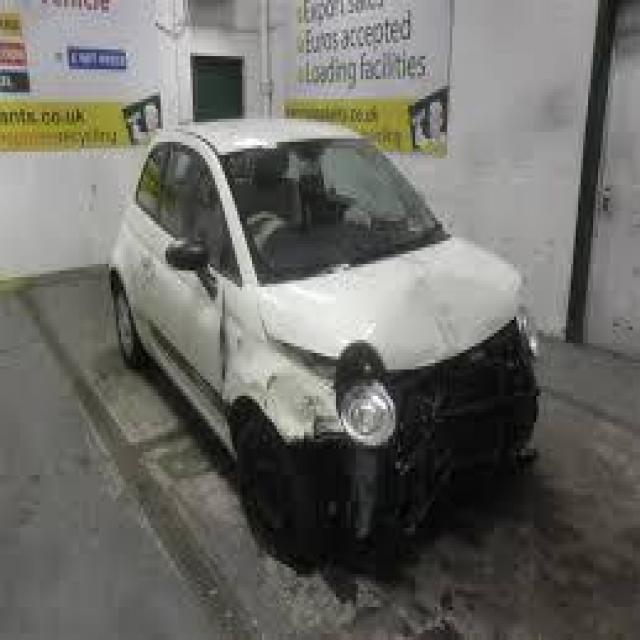damaged: (286, 310, 544, 535)
